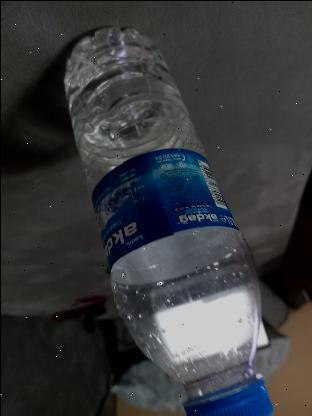Plastic Bottle: (41, 25, 279, 416)
